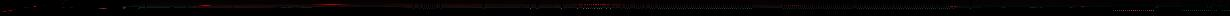Blue cone: (24, 7, 30, 8), (33, 6, 37, 7)
Yellow cone: (1080, 6, 1086, 8)
